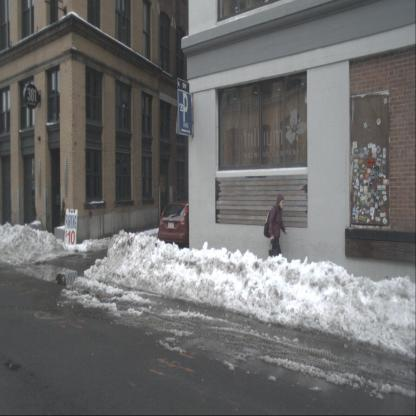human-pedestrian-adult: (264, 192, 288, 286)
vehicle-car: (156, 203, 211, 254)
